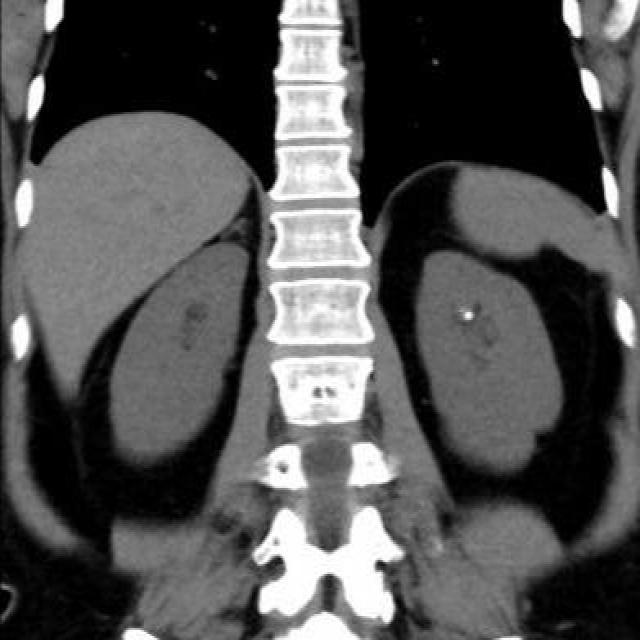Tas_Var: (462, 309, 476, 325)
